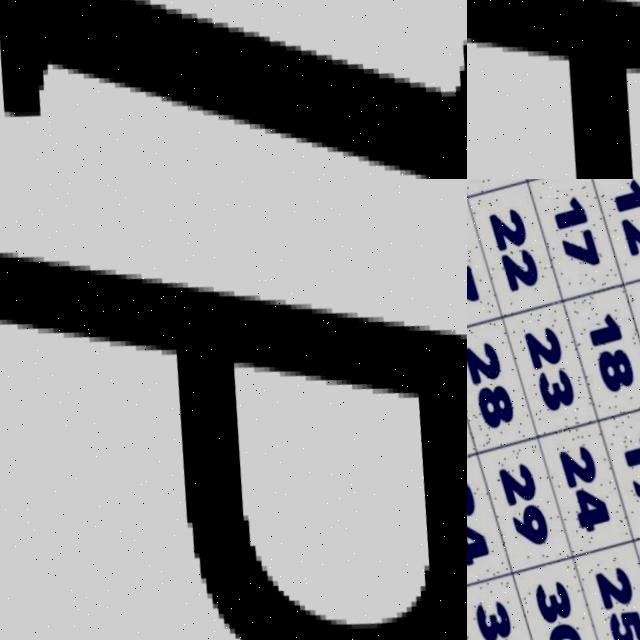0: (543, 601, 603, 640)
1: (580, 292, 635, 349), (544, 179, 597, 229), (618, 415, 640, 464), (604, 179, 640, 208)
2: (494, 233, 553, 295), (493, 444, 552, 506), (483, 192, 536, 254), (556, 429, 609, 487), (520, 314, 573, 370), (591, 550, 640, 608), (467, 327, 515, 384), (617, 202, 640, 259)
3: (532, 564, 589, 623), (532, 356, 588, 415), (471, 583, 527, 640), (467, 459, 490, 522)
4: (565, 466, 627, 538), (467, 506, 510, 574)
5: (607, 590, 640, 640), (484, 624, 543, 640)
7: (552, 212, 613, 276), (467, 251, 491, 311)
8: (473, 370, 527, 433), (593, 331, 640, 394)
9: (509, 486, 562, 550)
F: (467, 0, 640, 179)
